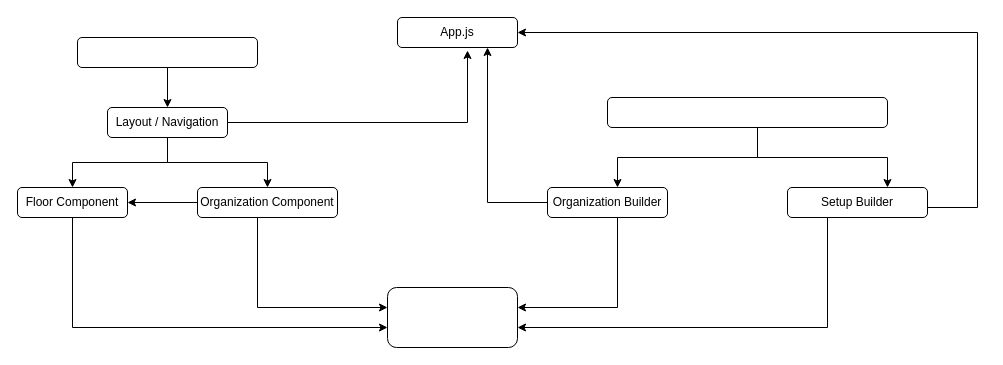
The diagram is 1003 pixels wide and 365 high, and some of its shapes have lost their labels. The centre of each missing label's shape, as x and y in pixels:
Component: the point at 167,52
Container: the point at 747,112
HOC / Wrapping Component: the point at 452,317
